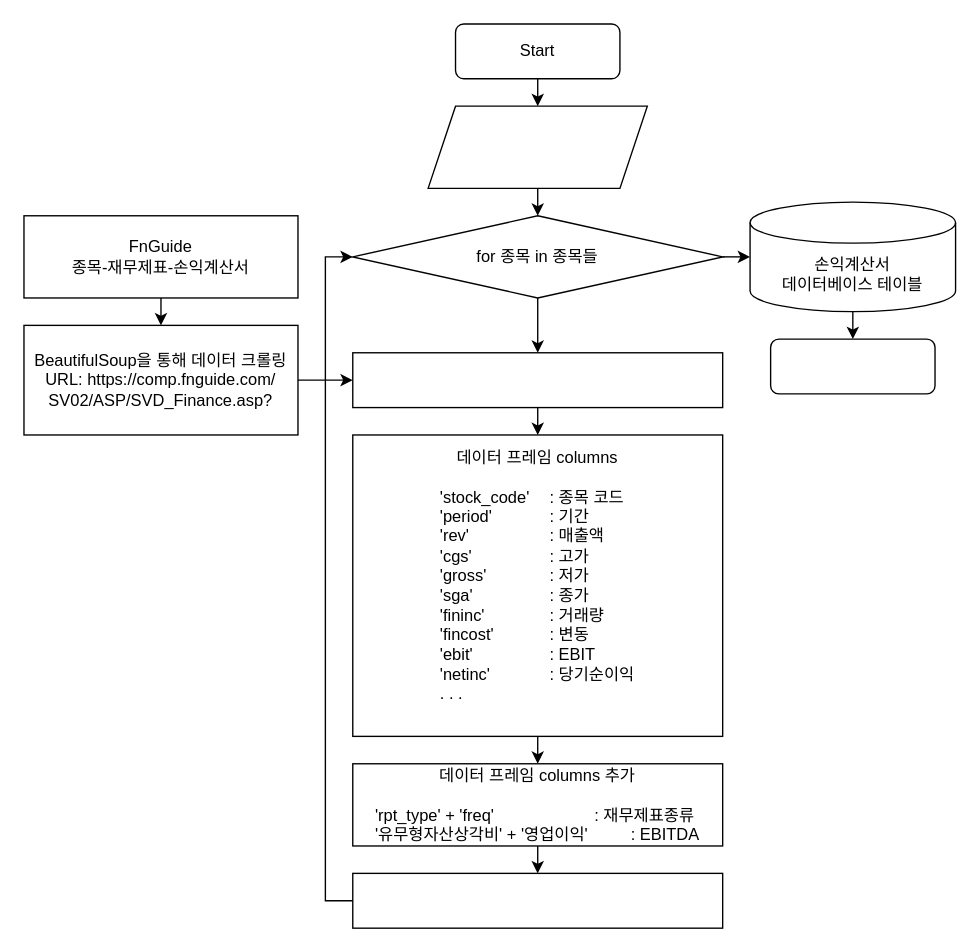
Image size: 980x952. Some labels were removed from this diagram. Here are the shapes that lost their labels. From the top down, the centre of each, then its label:
At pixel 537 146: "종목 코드 연결 및 별도 연간 및 분기".
At pixel 537 379: "FnGuide로부터 손익계산서 불러오기".
At pixel 852 366: "END".
At pixel 537 900: "출력한 DataFrame을 append".
